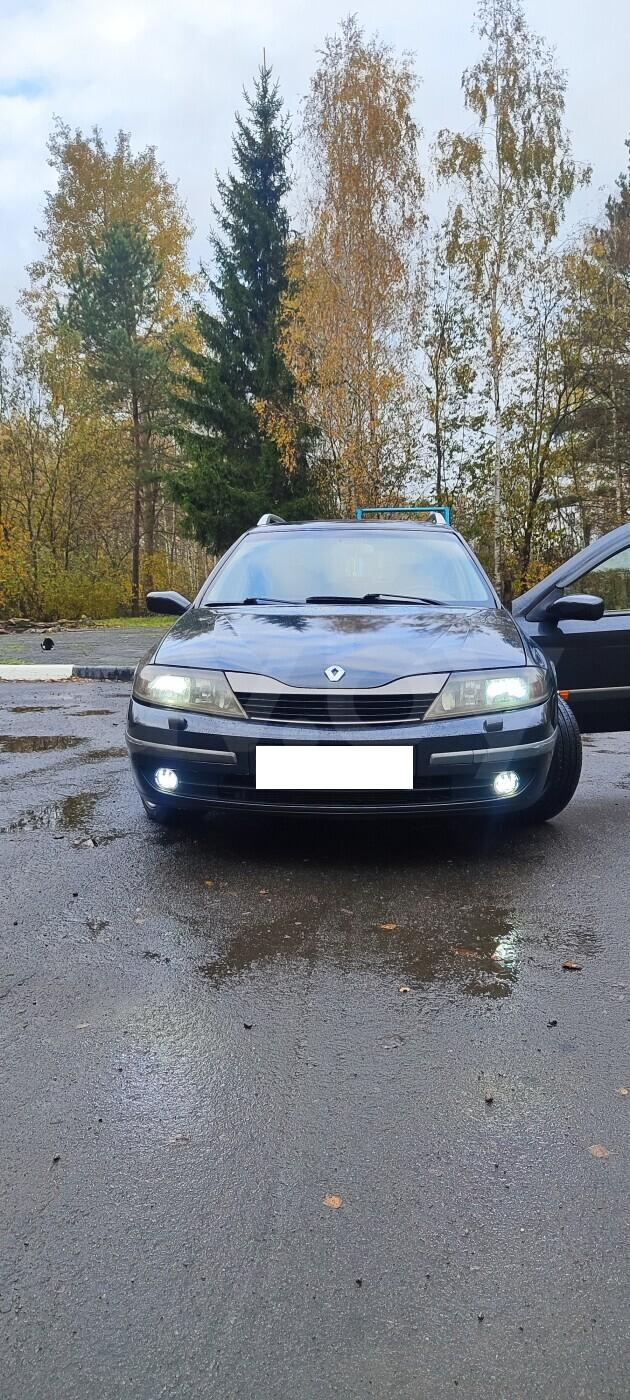Laguna_2001-2005: (126, 511, 580, 823)
